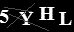5: (1, 9, 9, 24)
H: (37, 6, 56, 21)
L: (58, 11, 73, 26)
Y: (18, 11, 34, 26)
